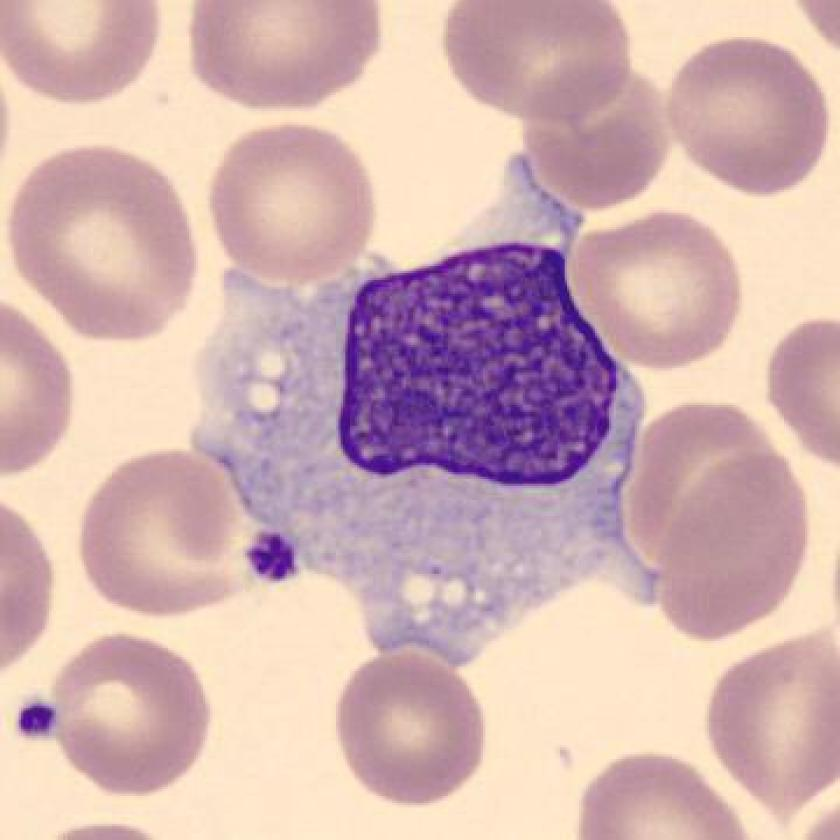monocyte: (169, 138, 689, 679)
